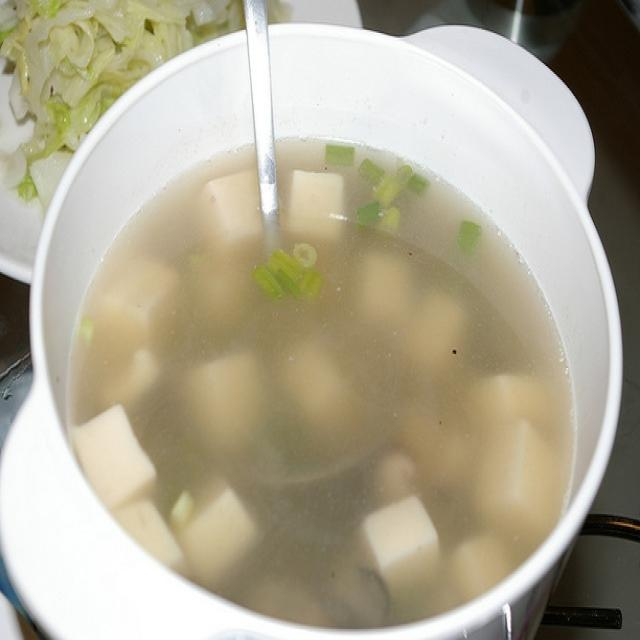豆腐料理: (69, 135, 581, 626)
